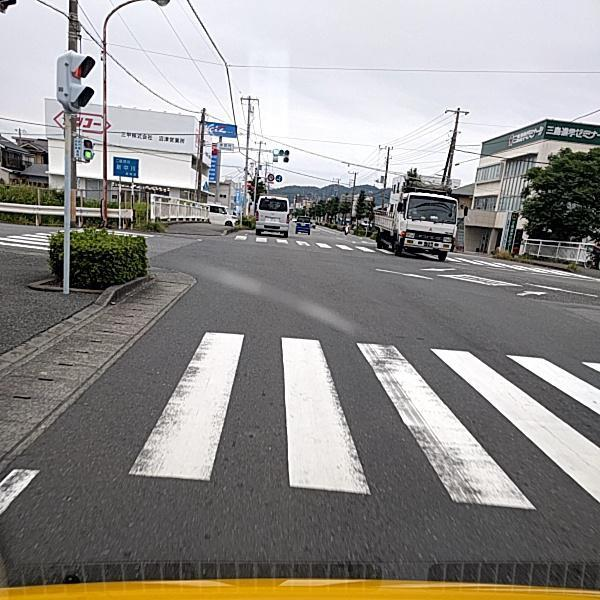D43: (120, 321, 570, 501)
